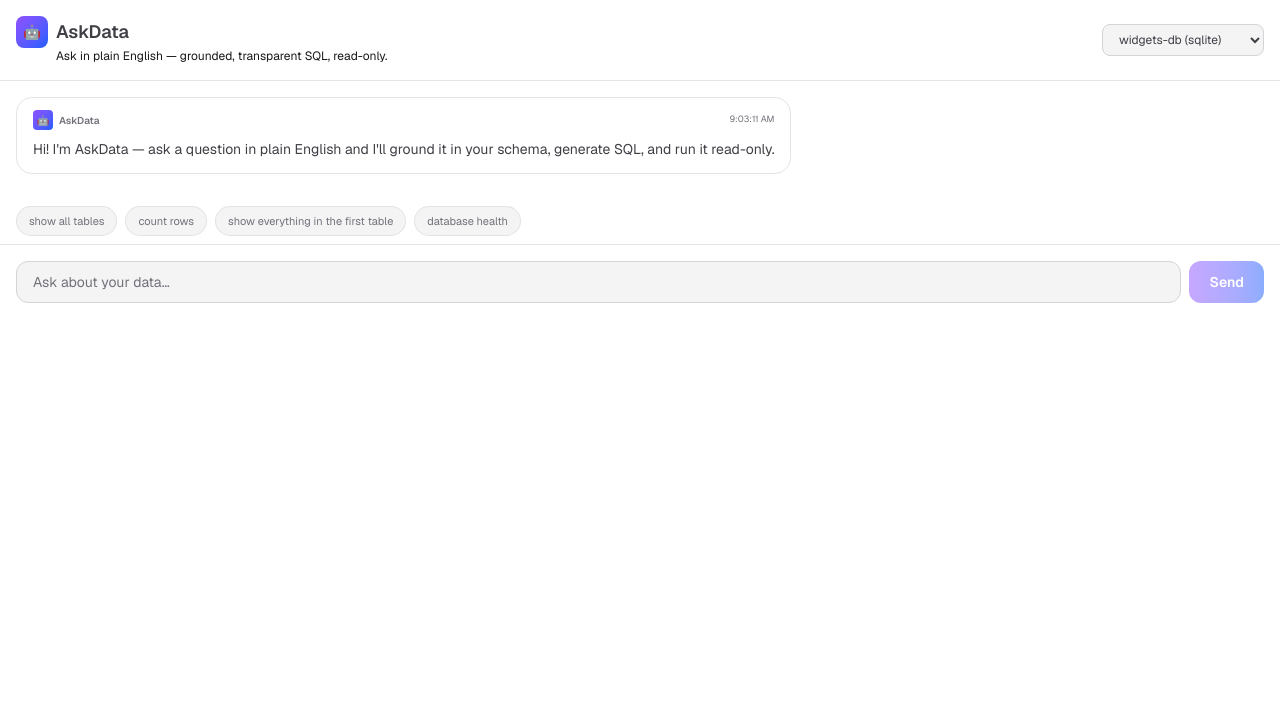
Test: AskDataView › sends a question and renders the answer, SQL, and result table
The width and height of the screenshot is (1280, 720).
In the field with placeholder "Ask about your data…": (599, 282) [16, 261, 1182, 303], type "show everything in customers"
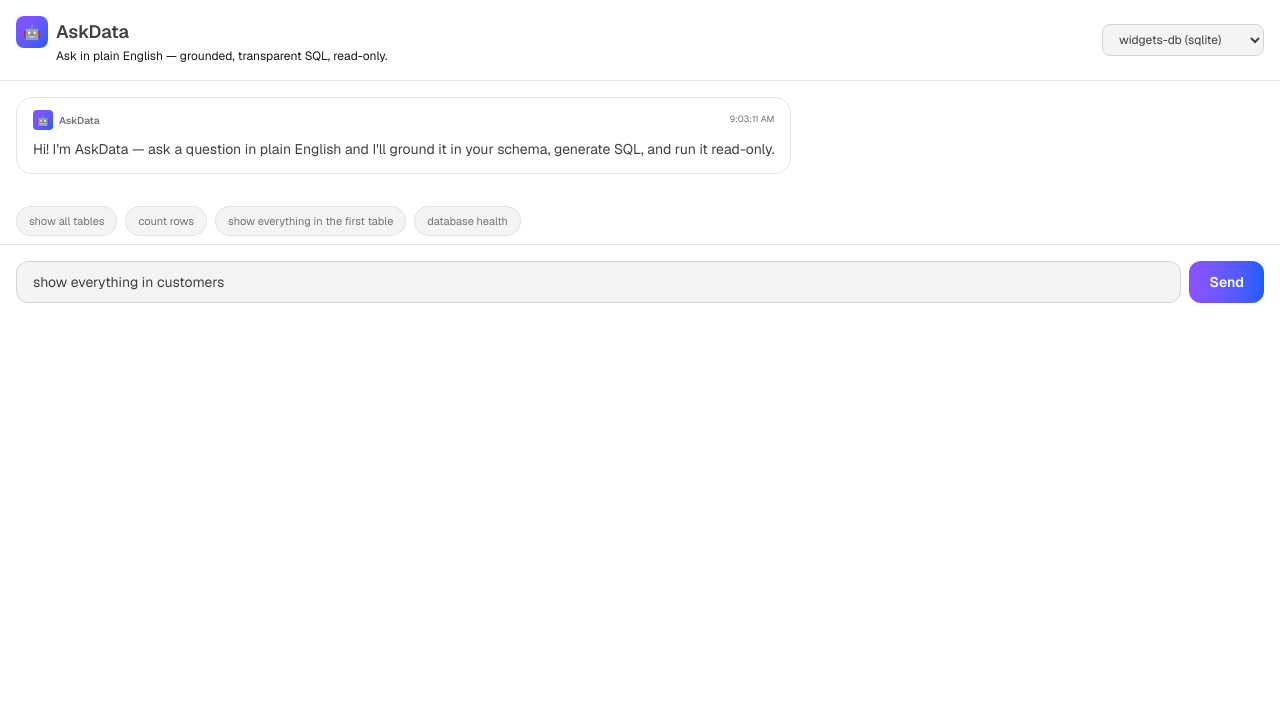
Click the button "Send": click(1227, 282) [1190, 261, 1264, 303]
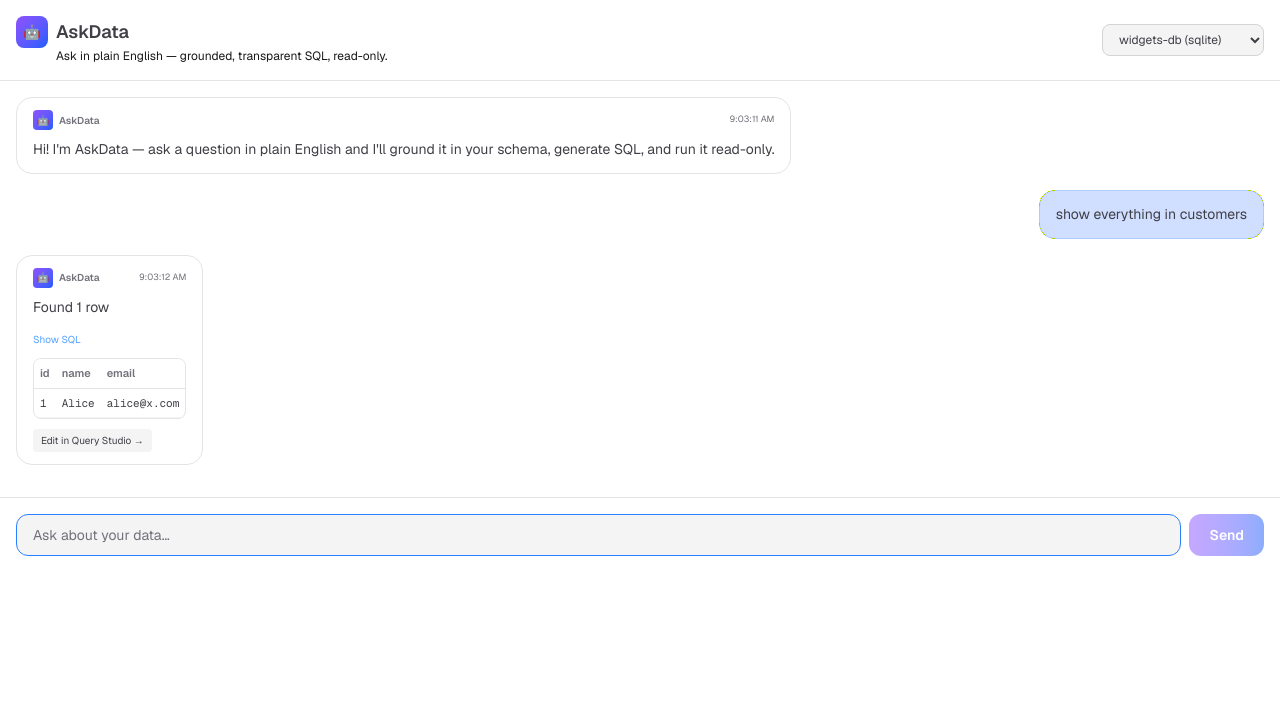
Result: the text "Found 1 row" is shown at [33, 298, 109, 316]
Click the button "Show SQL": click(57, 340) [33, 332, 81, 347]
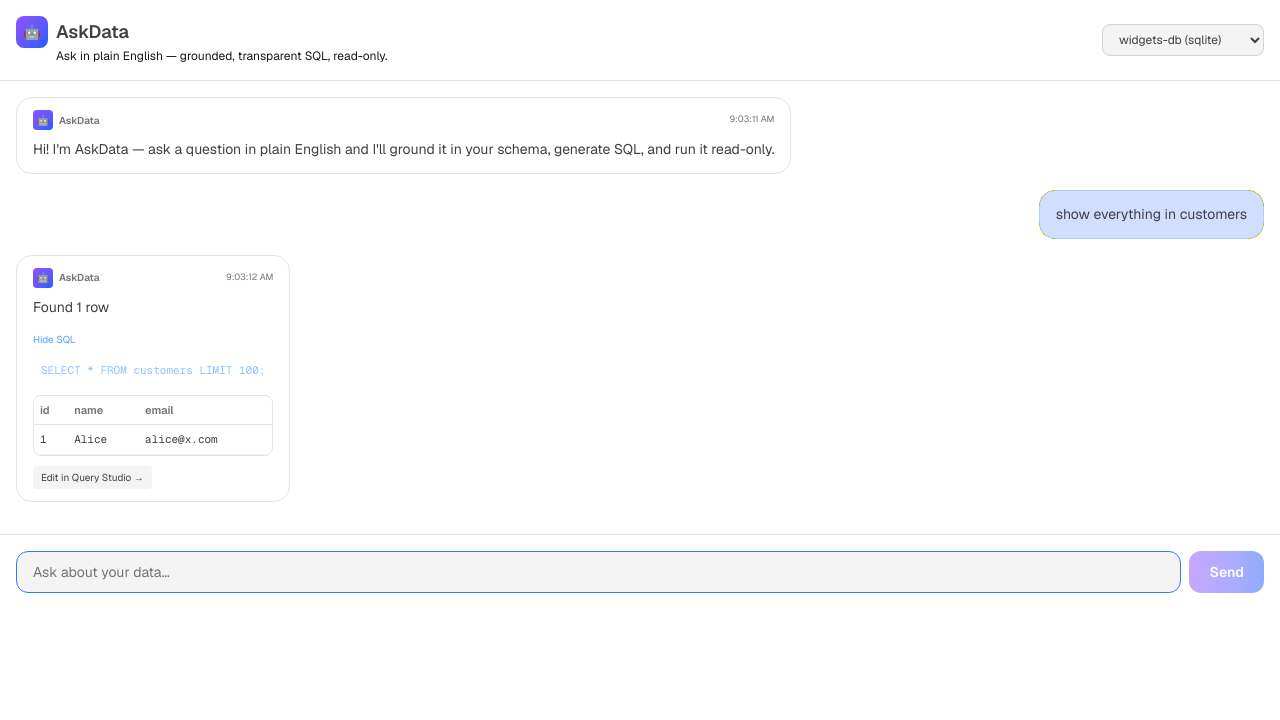
Result: the text "Alice" is shown at [68, 425, 139, 454]
Result: the text "SELECT * FROM customers LIMIT 100;" is shown at [33, 354, 273, 387]
